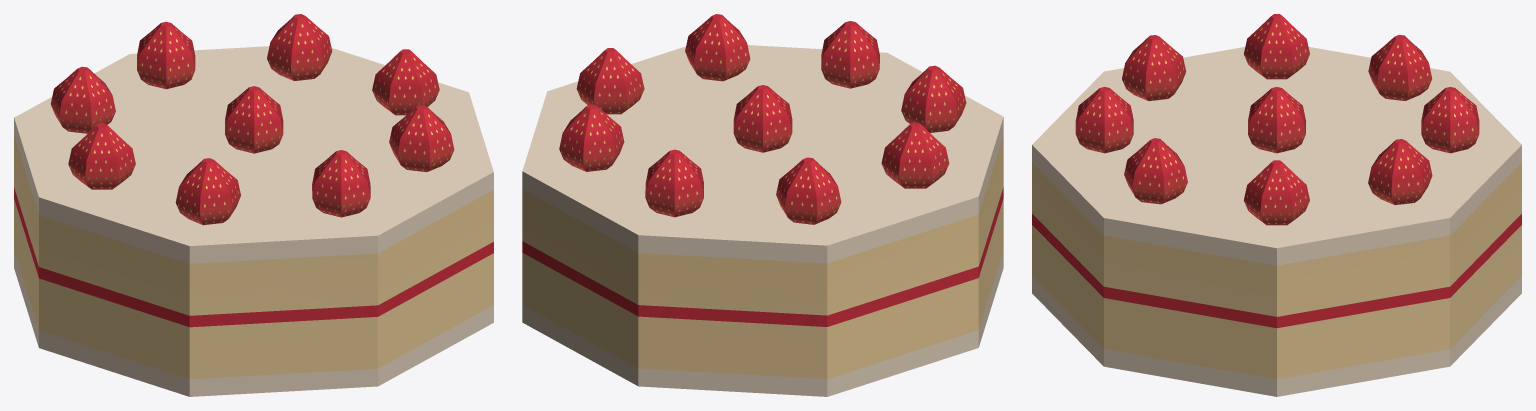
File: cake.fbx
3 renders of one model, left to right at view 1: azimuth 30°, elevation 25°; view 2: azimuth 150°, elevation 25°; view 3: azimuth 270°, elevation 25°, orthographic.
Parts seen in each view (by area): view 1: cake; view 2: cake; view 3: cake.
Part boxes in pixels (x1,y1,x2,y2): cake: [14, 14, 493, 396]; cake: [522, 14, 1003, 396]; cake: [1032, 14, 1521, 396].
Bounding box in the file's own units: 4.28 × 1.97 × 4.28.
2 materials, 2 textured.
